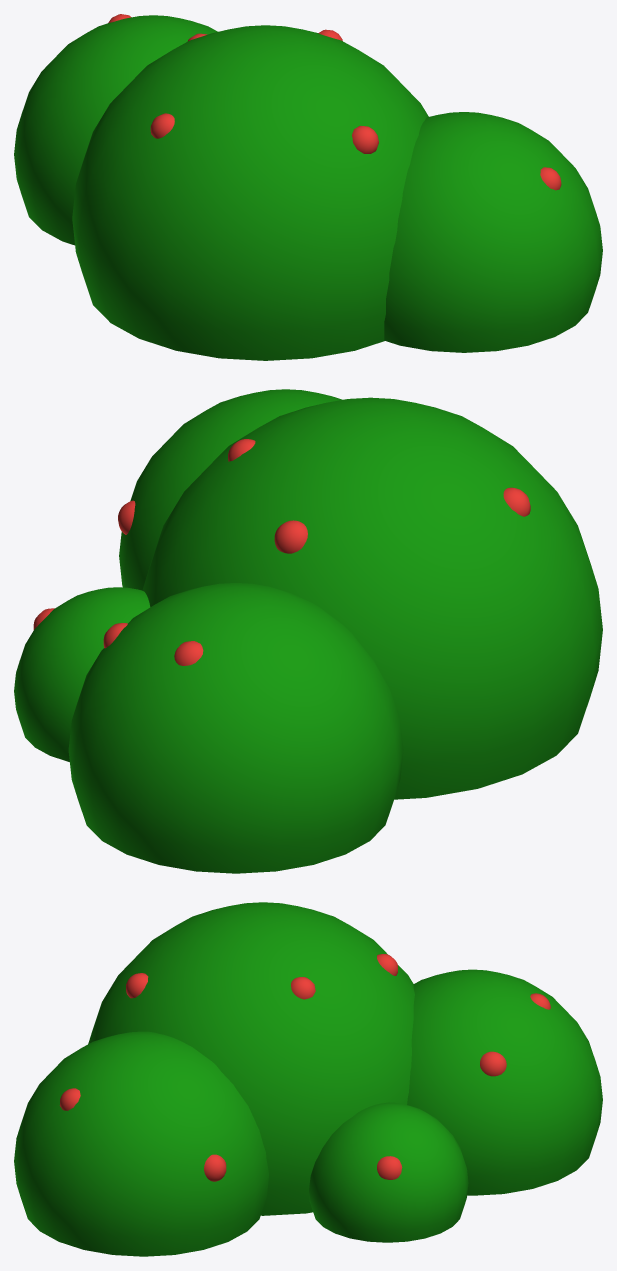
File: bush.fbx
The picture shows the model from 3 angles, top to bottom: view 1: azimuth 30°, elevation 25°; view 2: azimuth 150°, elevation 25°; view 3: azimuth 270°, elevation 25°; orthographic projection. The views are drawn at different scales.
Parts seen in each view (by area): view 1: Sphere, Sphere.003, Sphere.001, Sphere.012, Sphere.005; view 2: Sphere, Sphere.001, Sphere.002, Sphere.003, Sphere.004; view 3: Sphere, Sphere.003, Sphere.001, Sphere.002, Sphere.006, Sphere.010, Sphere.007.
Boxes of the visible parts, x1,y1,x2,y2 form: Sphere: [72, 25, 428, 360]; Sphere.003: [384, 112, 602, 352]; Sphere.001: [14, 15, 217, 245]; Sphere.012: [352, 126, 378, 153]; Sphere.005: [150, 113, 174, 138]; Sphere: [142, 397, 602, 799]; Sphere.001: [68, 583, 403, 873]; Sphere.002: [14, 587, 150, 761]; Sphere.003: [119, 389, 342, 590]; Sphere.004: [274, 520, 307, 553]; Sphere: [88, 902, 414, 1215]; Sphere.003: [14, 1031, 268, 1256]; Sphere.001: [407, 969, 602, 1195]; Sphere.002: [309, 1102, 468, 1242]; Sphere.006: [480, 1051, 506, 1076]; Sphere.010: [204, 1154, 226, 1181]; Sphere.007: [377, 1156, 402, 1179].
Size of the model in its own units: 252 by 138 by 326.
